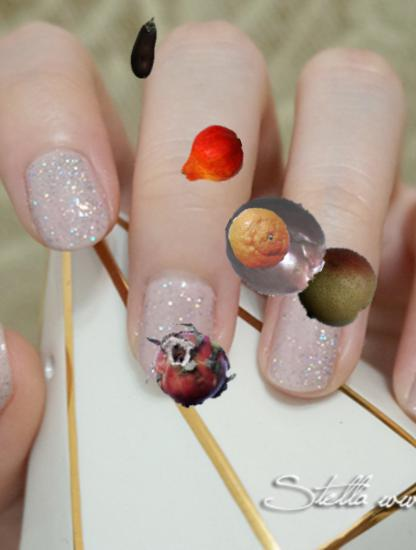Eggplant: (112, 16, 176, 80)
Mandarine: (227, 207, 292, 272)
Passion: (223, 193, 328, 298)
Pear: (276, 229, 378, 331), (171, 120, 245, 194)
Pitahaya: (138, 315, 239, 416)
